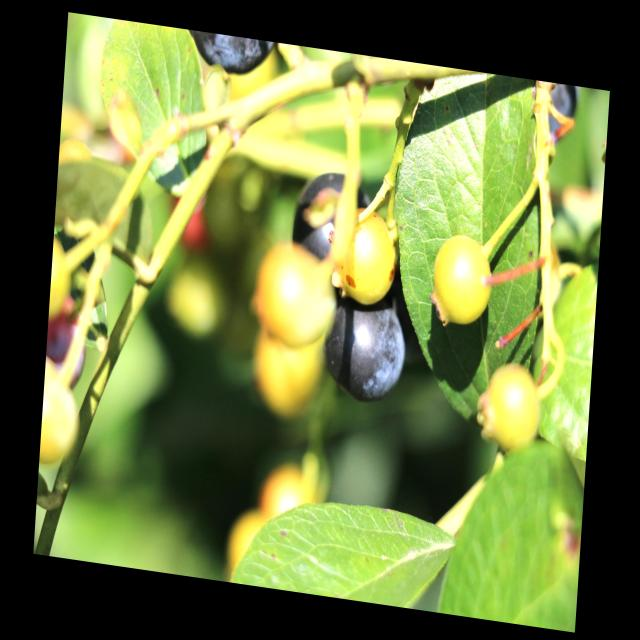blueberry: (317, 288, 414, 412), (292, 164, 379, 266), (187, 30, 283, 80)
blueberry-unripe: (254, 239, 337, 348), (249, 324, 327, 419), (427, 226, 495, 331), (477, 349, 543, 455), (337, 198, 400, 306)
